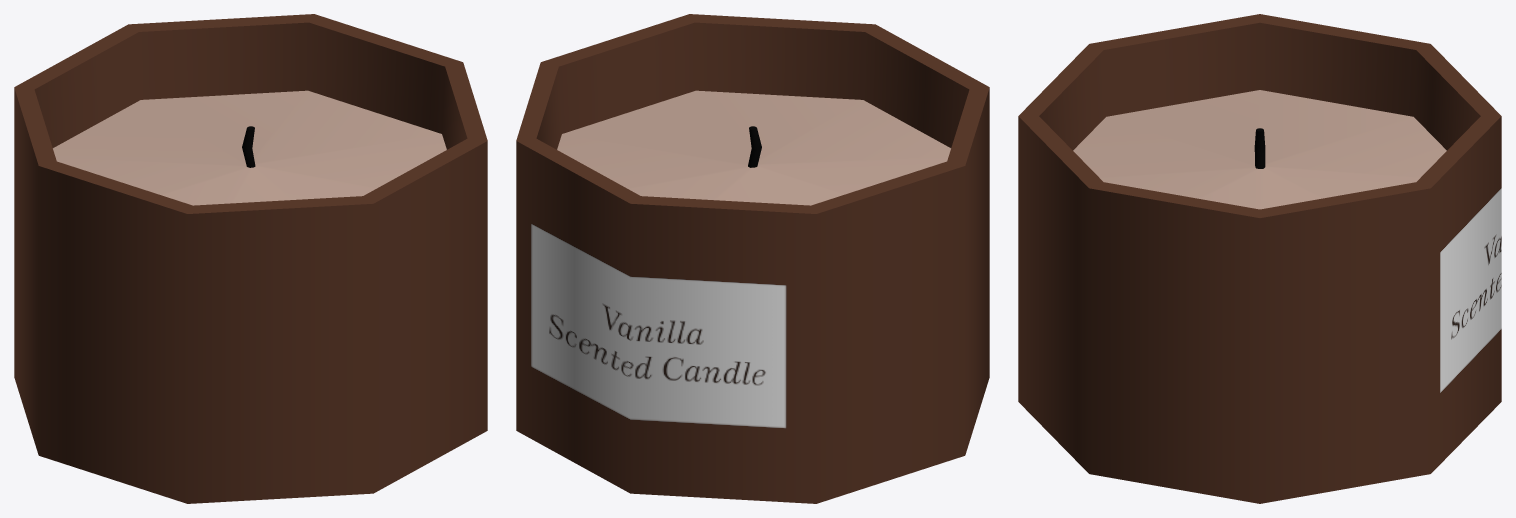
File: furniture_decor_210019.glb
3 views of the same model, side by side, from view 1: azimuth 30°, elevation 25°; view 2: azimuth 150°, elevation 25°; view 3: azimuth 270°, elevation 25° (orthographic).
Visible parts, largest first — view 1: furniture_decor_210019; view 2: furniture_decor_210019; view 3: furniture_decor_210019.
Boxes of the visible parts, bbox=[...] form: furniture_decor_210019: bbox=[14, 14, 487, 503]; furniture_decor_210019: bbox=[516, 14, 989, 503]; furniture_decor_210019: bbox=[1018, 14, 1501, 503].
Bounding box in the file's own units: 0.1295 × 0.0845 × 0.1295.
1 material, 1 textured.
